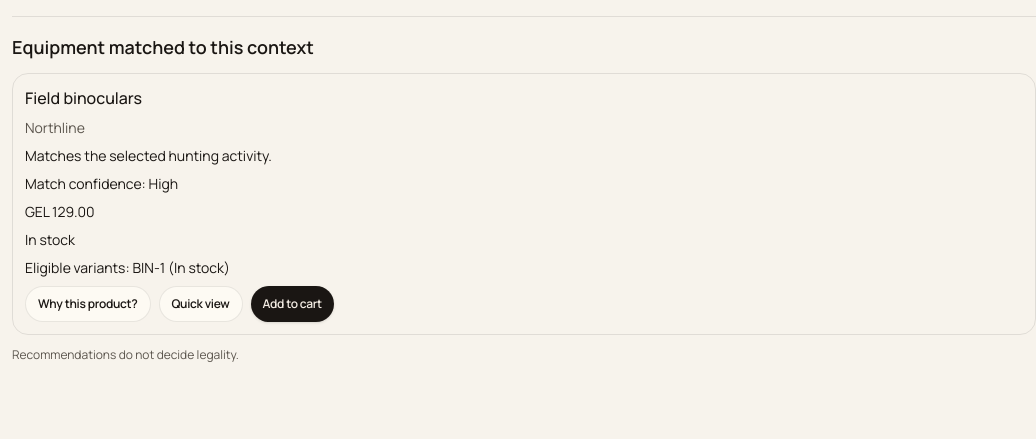
it: recommendation section › shows ranked products, reasons, confidence, and adds the eligible variant
Expected: the link "Field binoculars" is shown, [25,87,142,109]
Expected: the text "Matches the selected hunting activity." is shown, [25,146,272,165]
Click the button "Why this product?".
click(88, 304)  # box [25,286,150,322]
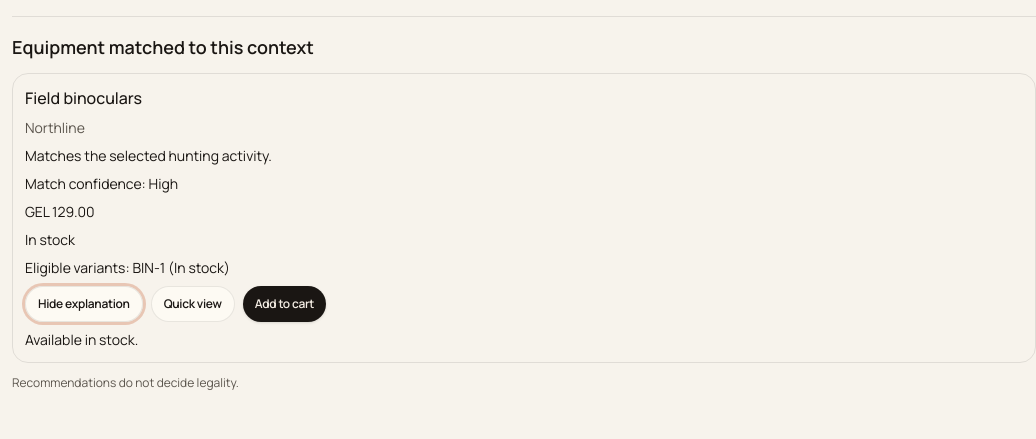
Now the list item "Available in stock." is shown, box [25,330,138,349]
Click the button "Add to cart".
click(284, 304)  # box [243,286,326,322]
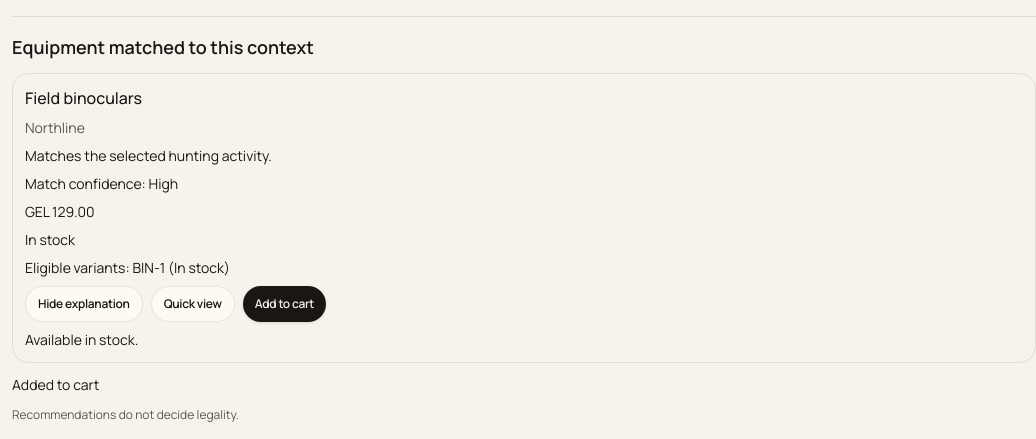
Now the text "Added to cart" is shown, box [12,375,99,394]
